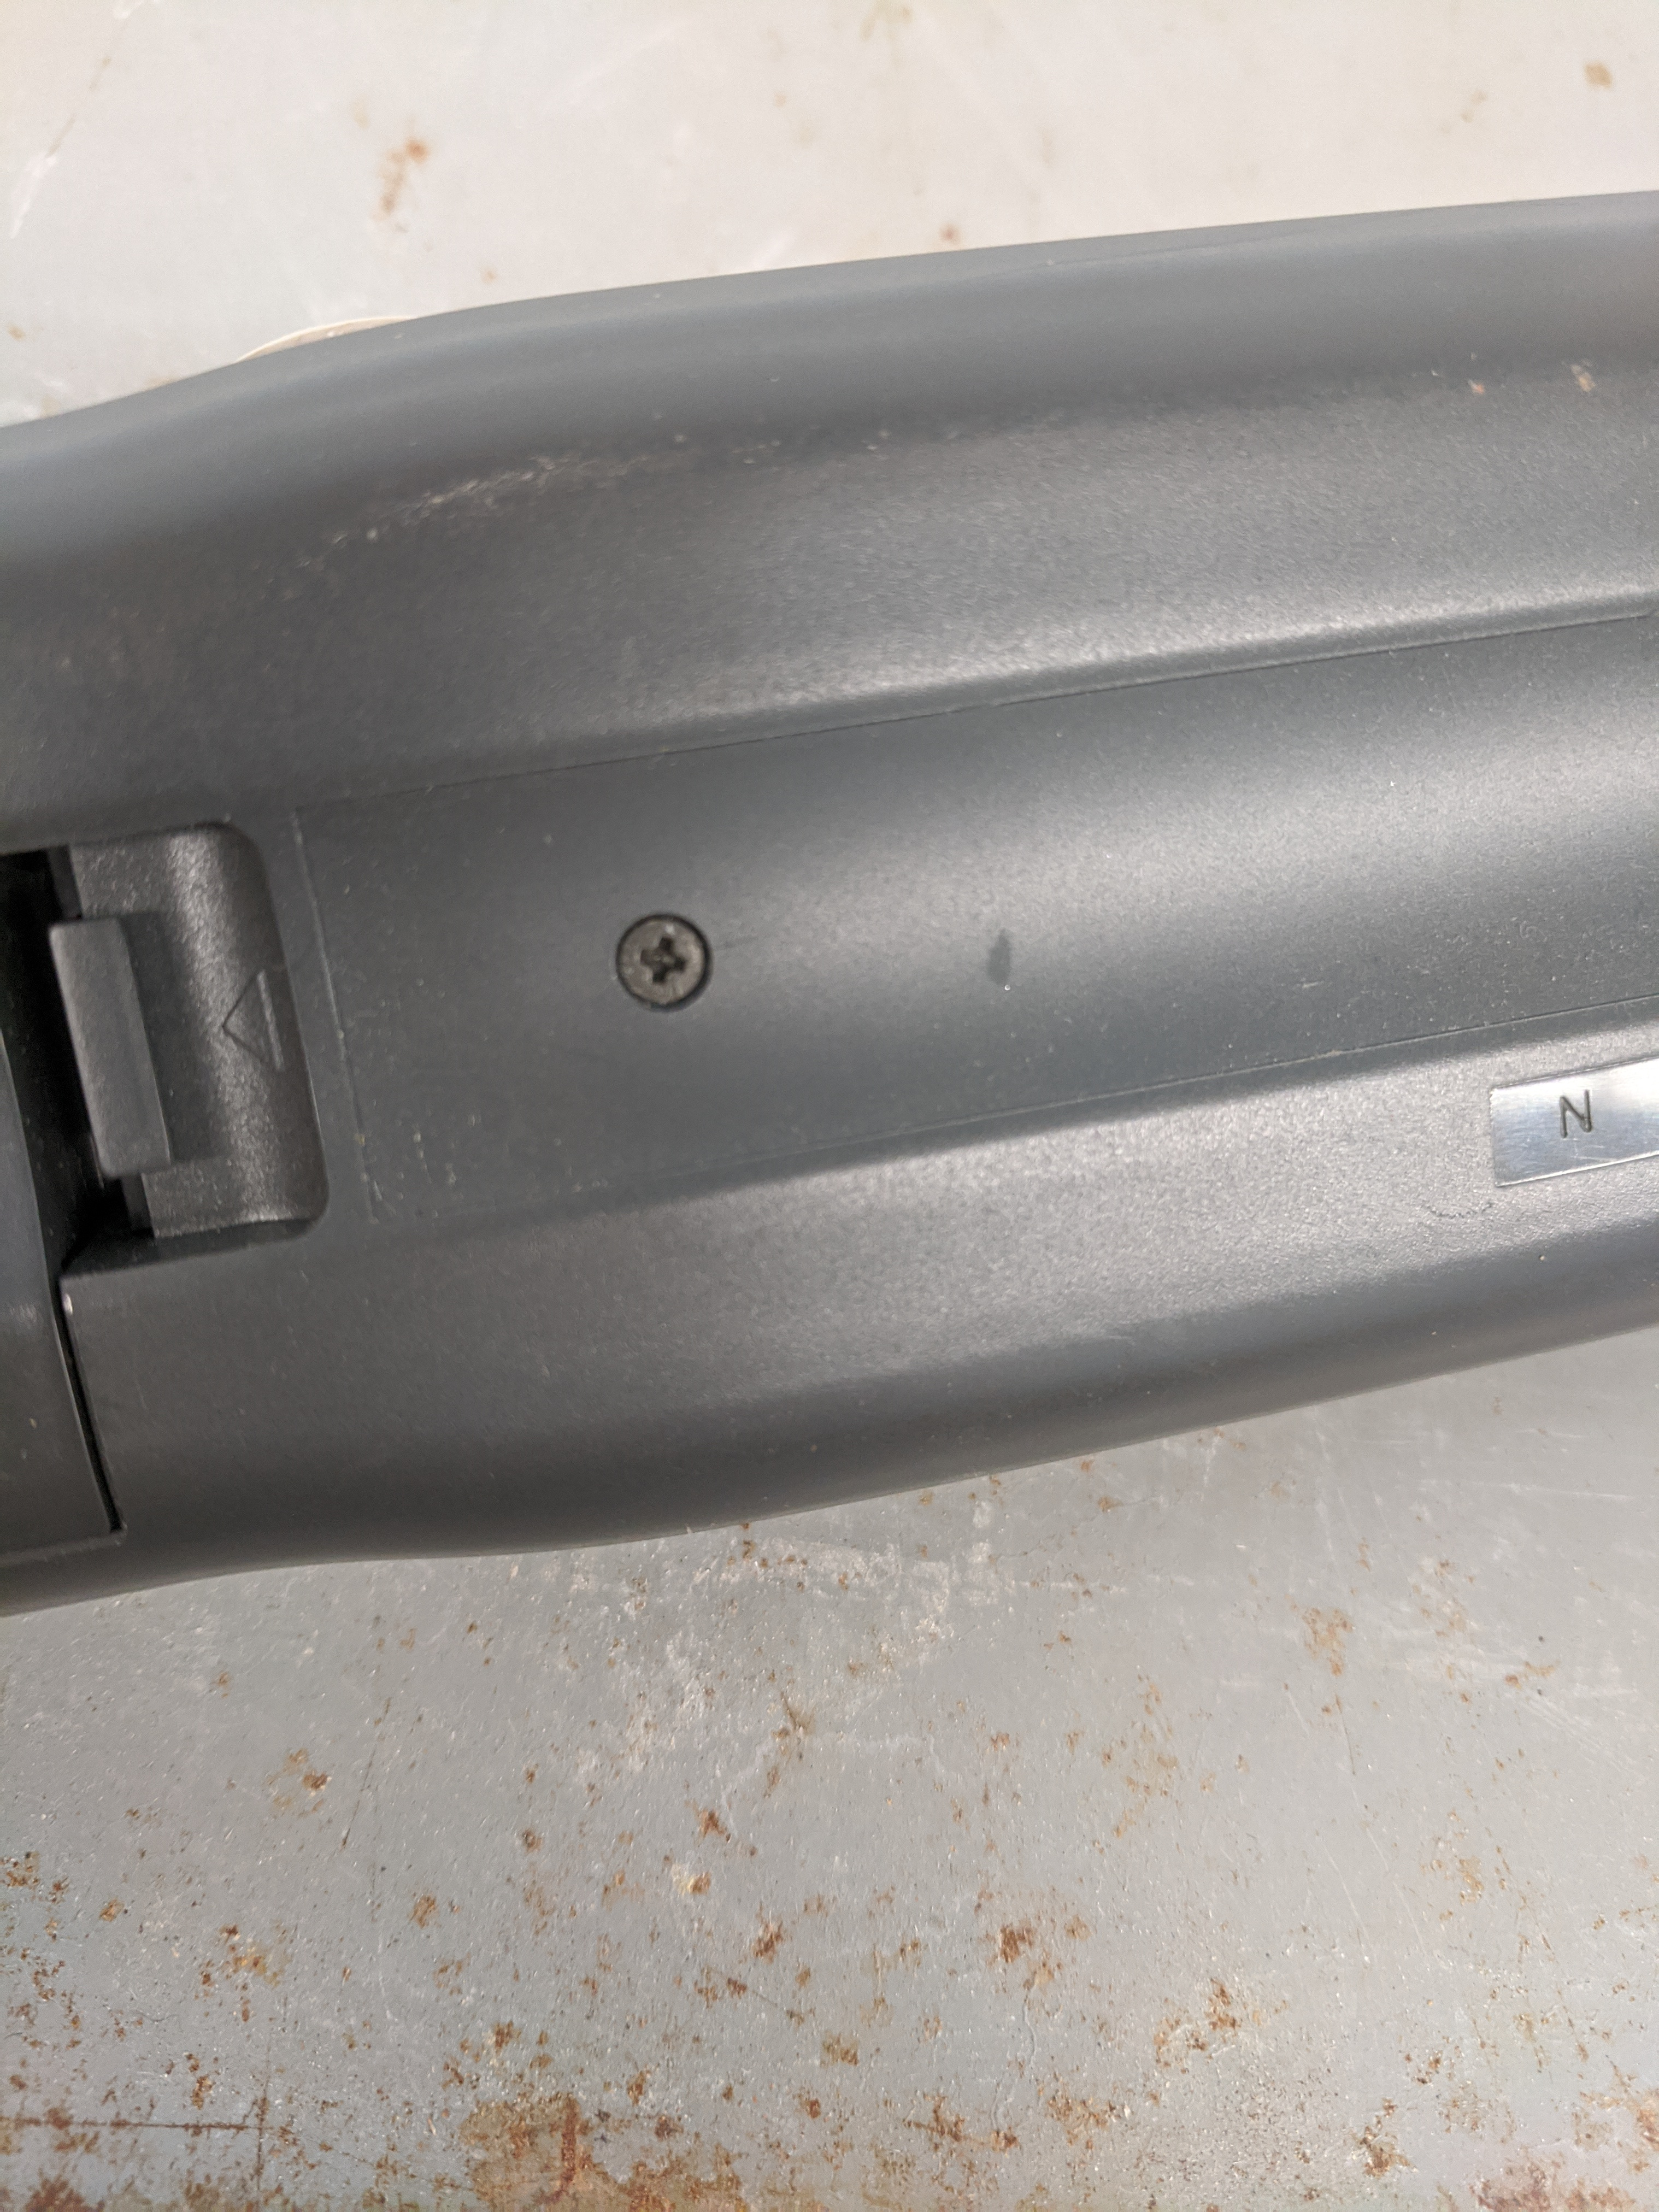cross_recessed_screw: (591, 899, 732, 1014)
